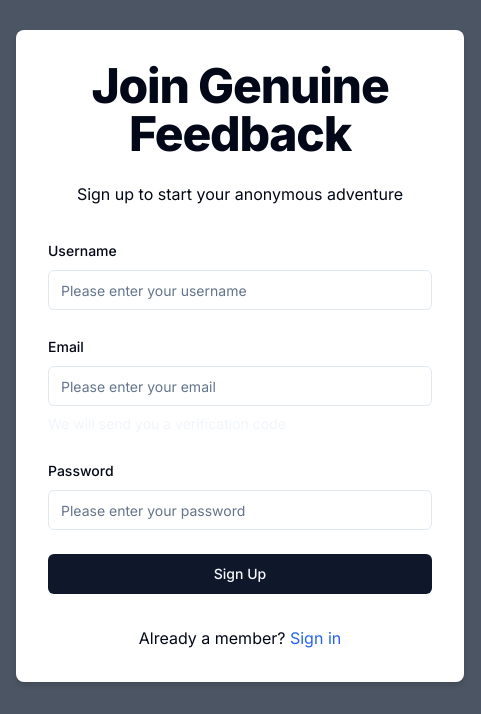
it: SignUpForm › checks username uniqueness and displays message
Type "testuser" into the field labelled "Username" at (240, 290), box [48, 270, 432, 310]
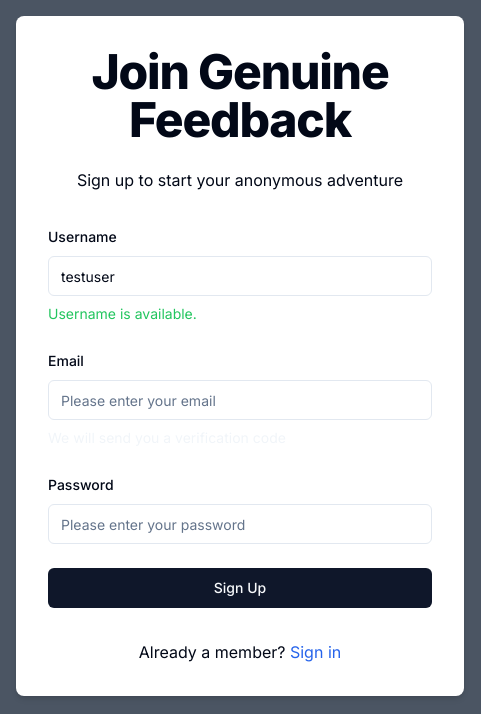
Now the text "Username is available." is shown, box [48, 305, 197, 322]
